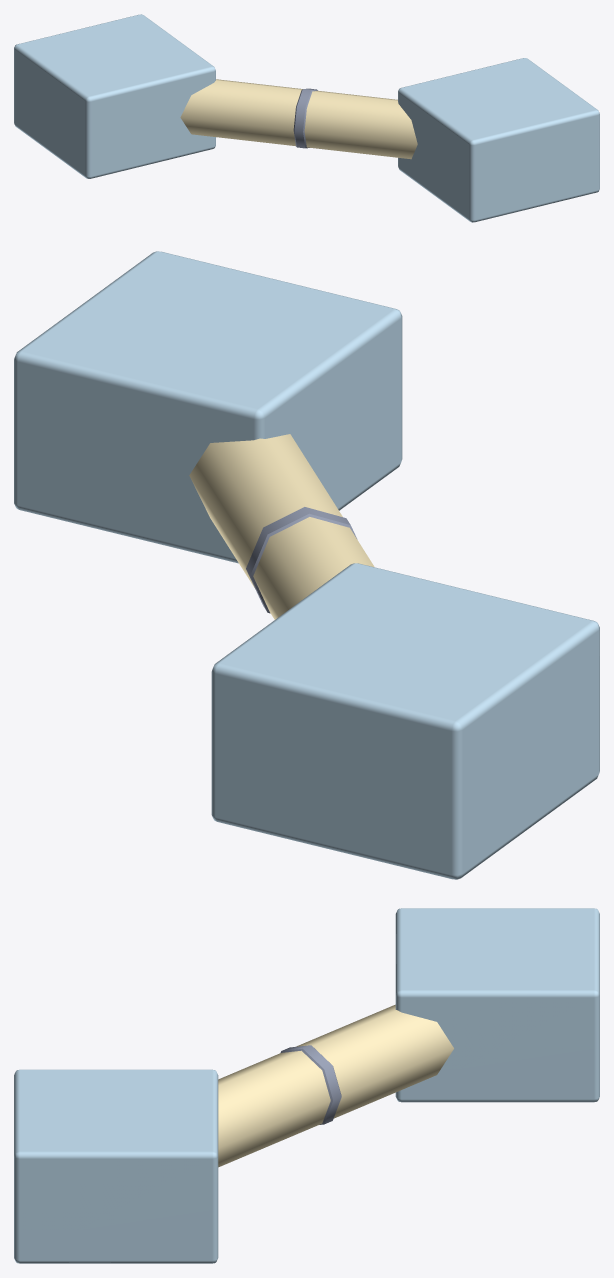
File: R4C_ROD_DIAG_2D_SHORT.glb
3 views of the same model, one above another, from view 1: azimuth 30°, elevation 25°; view 2: azimuth 150°, elevation 25°; view 3: azimuth 270°, elevation 25° (orthographic). The views are drawn at different scales.
Parts seen in each view (by area): view 1: R4C_ROD_DIAG_2D_SHORT; view 2: R4C_ROD_DIAG_2D_SHORT; view 3: R4C_ROD_DIAG_2D_SHORT.
Part boxes in pixels (left/top/right/bottom): R4C_ROD_DIAG_2D_SHORT: left=14, top=14, right=599, bottom=222; R4C_ROD_DIAG_2D_SHORT: left=14, top=251, right=599, bottom=879; R4C_ROD_DIAG_2D_SHORT: left=14, top=908, right=599, bottom=1263.
Size of the model in its own units: 1.07 by 0.226 by 1.07.
